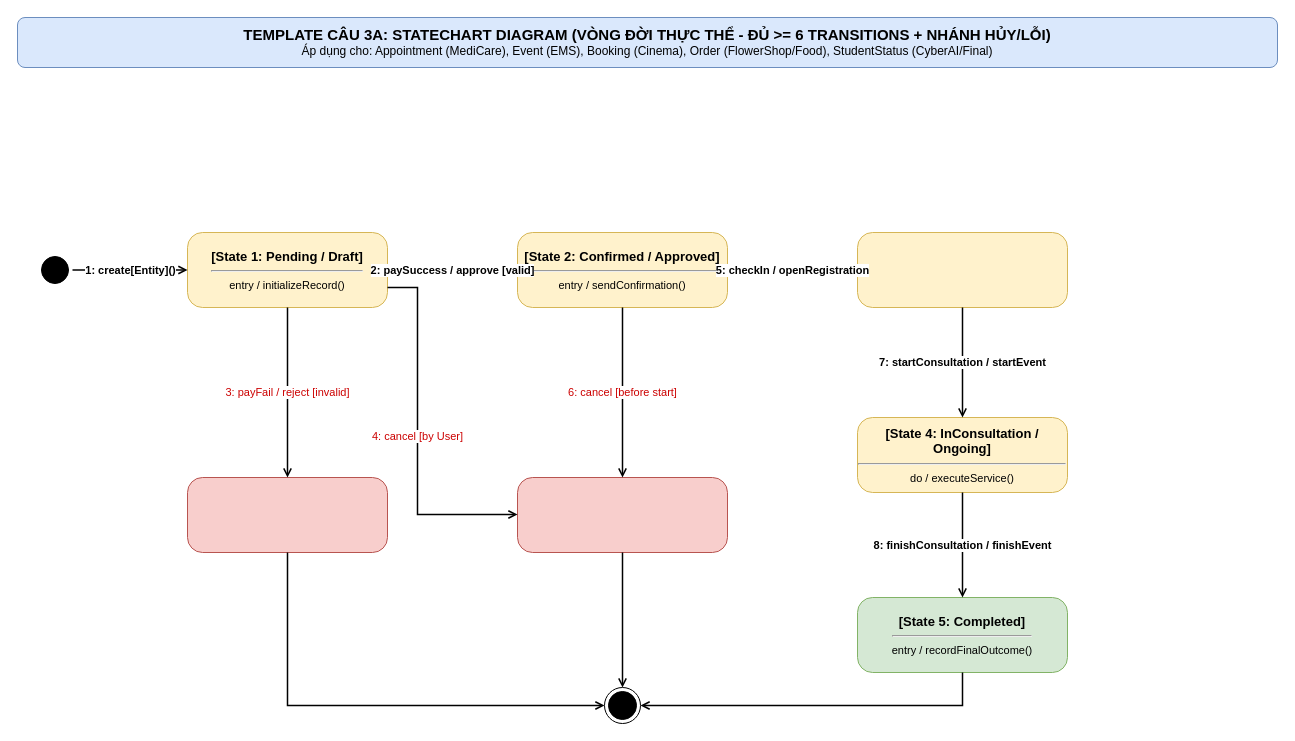
The diagram is 1295 pixels wide and 741 high, and some of its shapes have lost their labels. Each missing label, with the box of its shape:
[Cancelled] entry / releaseResource(): (516, 476, 728, 552)
[PaymentFailed / Rejected] entry / notifyFailure(): (186, 476, 388, 552)
[State 3: CheckedIn / Open] do / monitorStatus(): (856, 232, 1068, 308)
